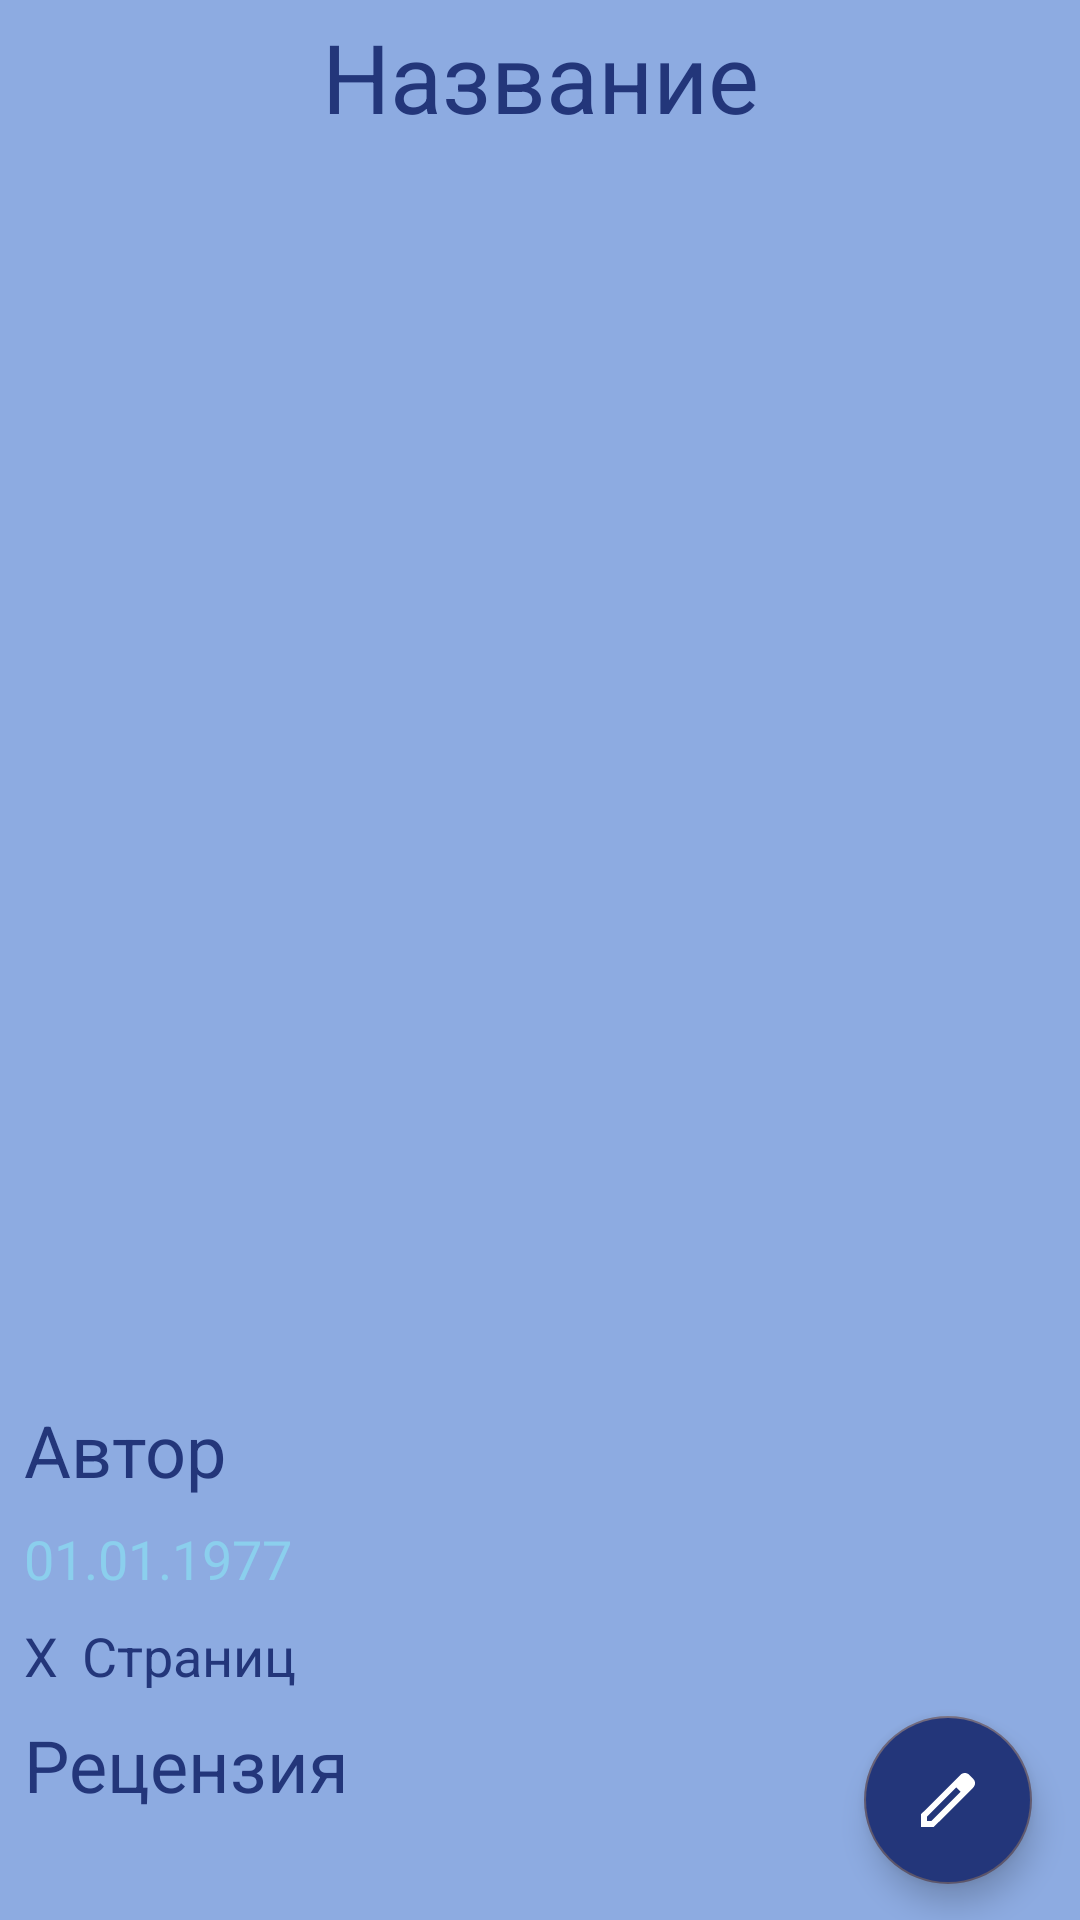

Where icons sit on this 1080px×1920px app screen, as (x1, y1, x2, y2):
edit: (864, 1716, 1032, 1884)
